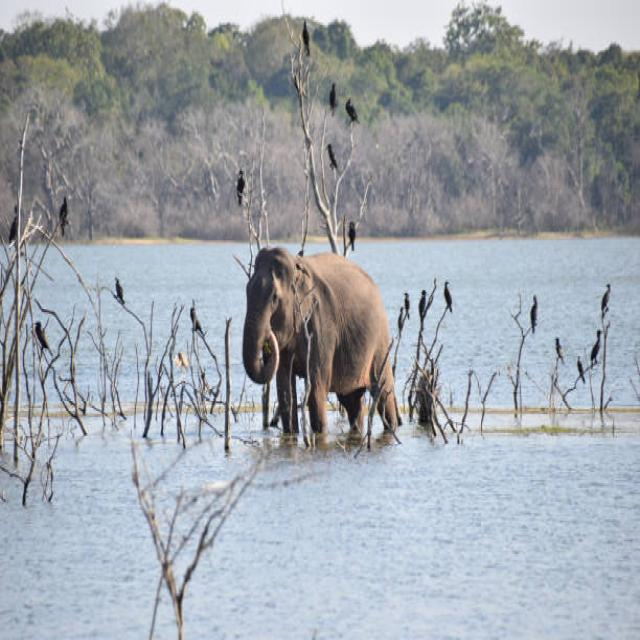Elephant: (238, 236, 402, 472)
